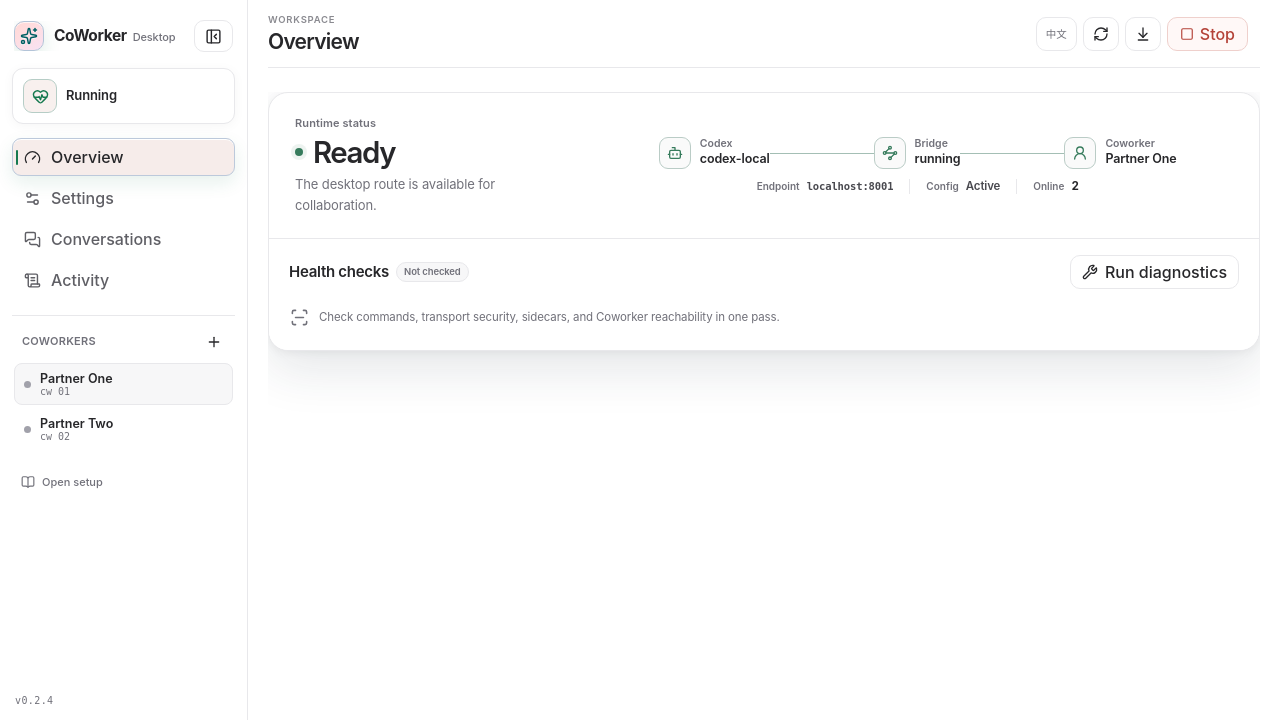
Test: App backend operation wiring › does not let an older conversation refresh hide a newly loaded local conversation
Expected: the text "codex-local" is shown, [700,151,770,168]
Click the button "Conversations": (124, 239) [12,220,235,258]
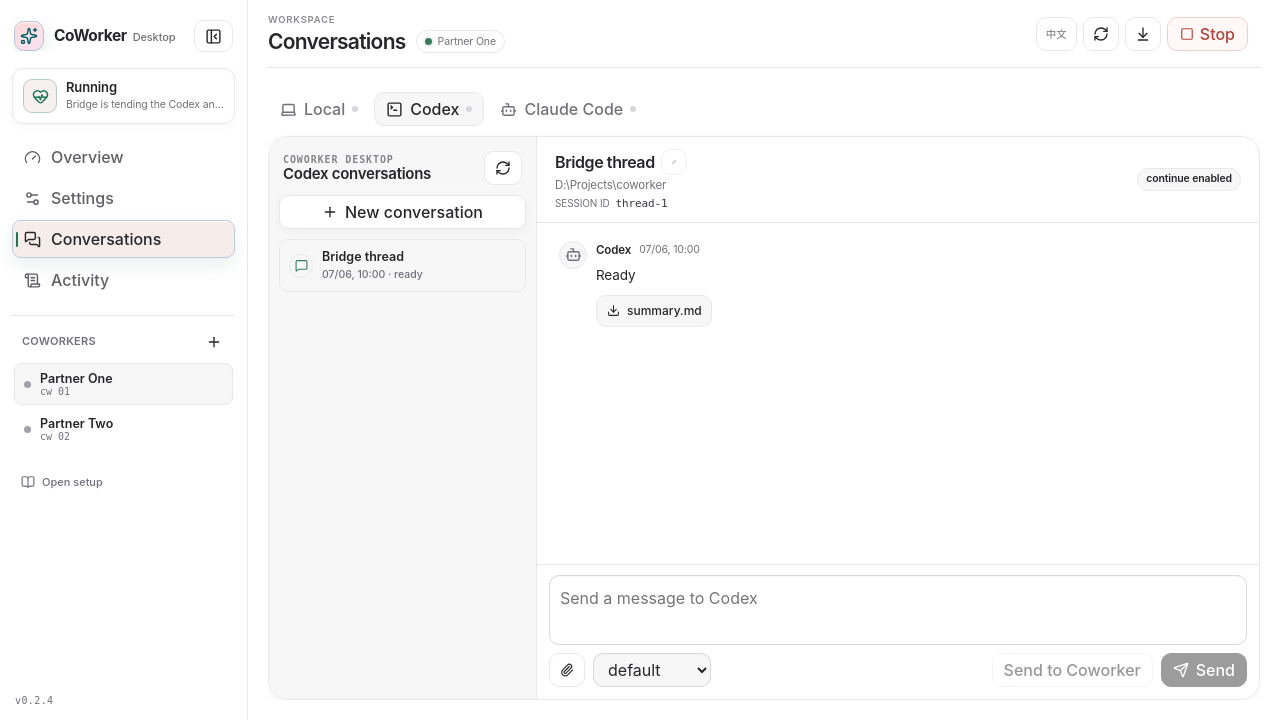
Now the text "Bridge thread" is shown, box [322,249,404,264]
Click the button "Local": (319, 109) [268,92,370,126]
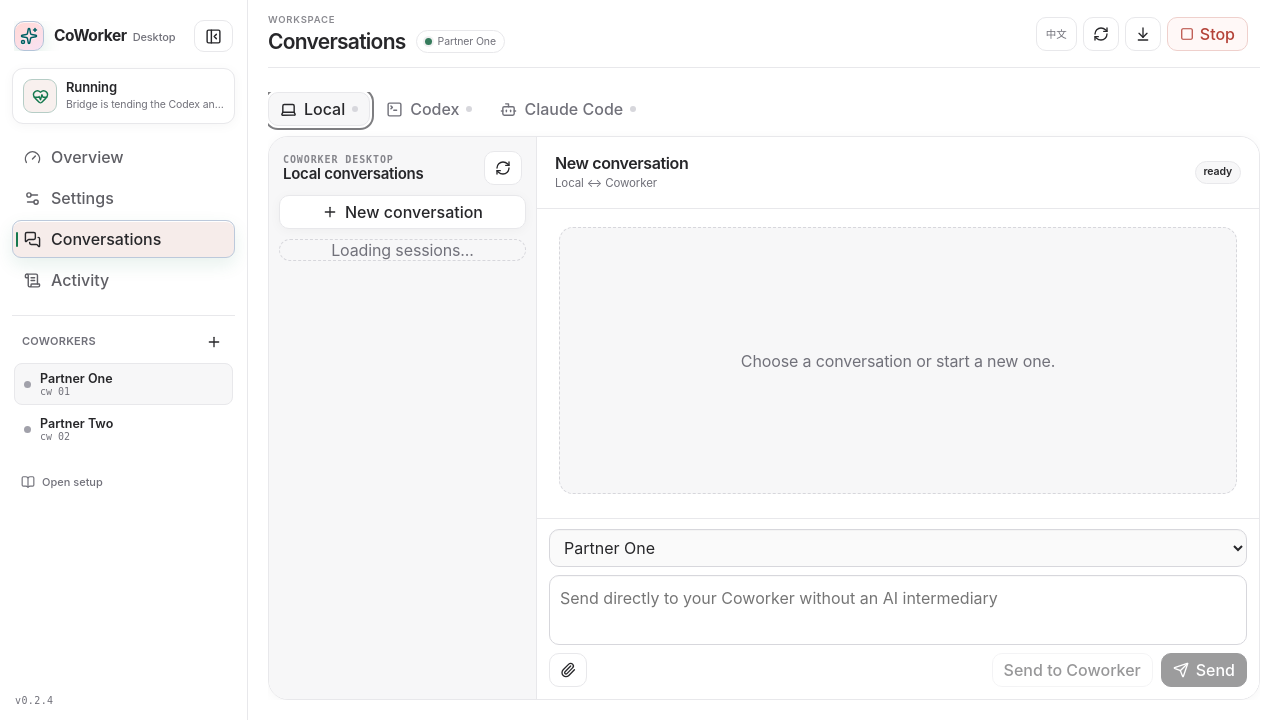
Click the button named "Refresh conversations": (503, 168) [484,151,522,185]
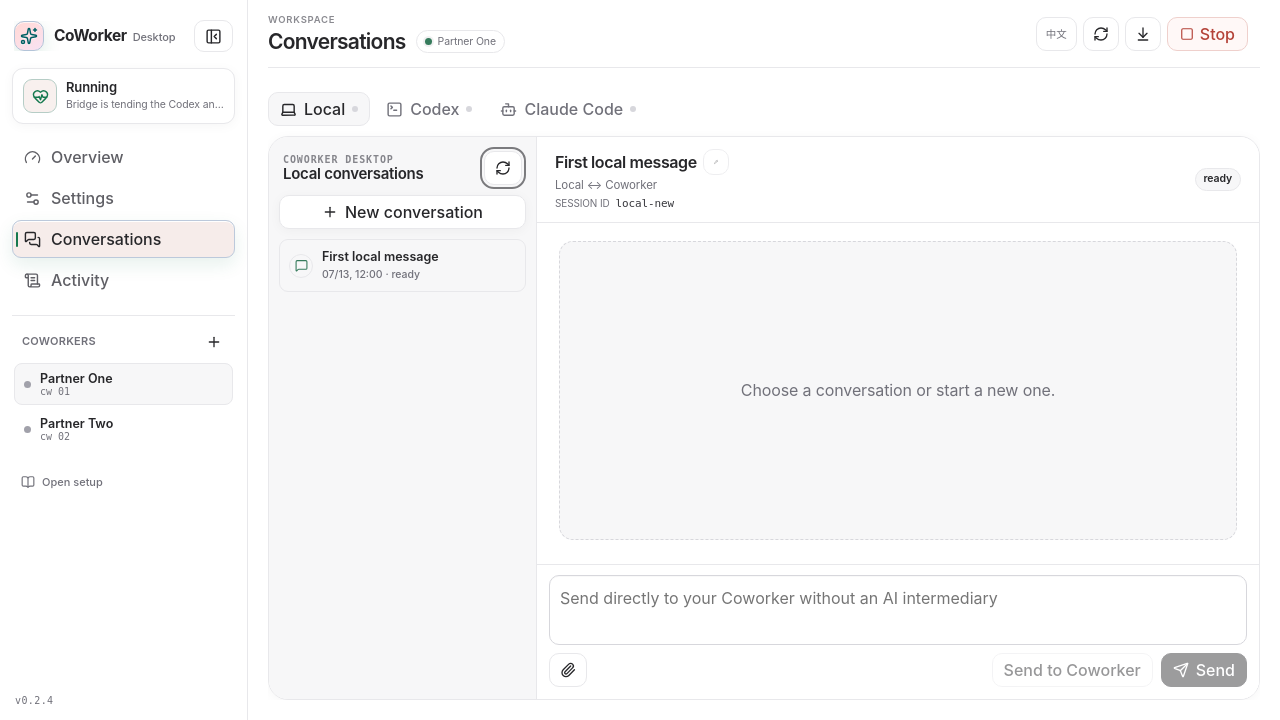
Now the button "First local message 07/13, 12:00 · ready" is shown, box [279,239,526,292]
